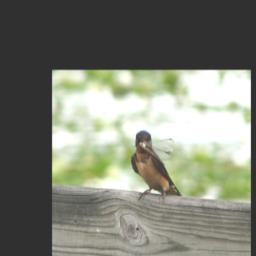Swallow: (131, 130, 182, 206)
